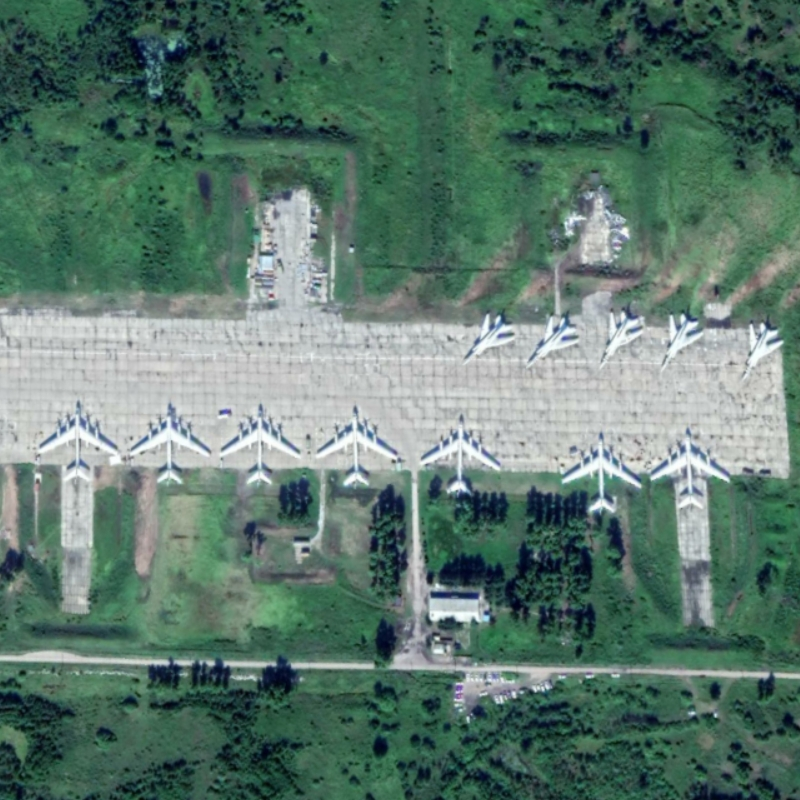A12: (460, 311, 518, 367), (524, 315, 581, 370), (597, 309, 646, 370), (657, 311, 706, 372), (739, 320, 786, 381)
A17: (313, 410, 399, 491), (218, 407, 303, 488), (648, 431, 733, 511), (129, 407, 212, 488), (37, 405, 120, 486), (559, 436, 643, 516), (419, 419, 503, 497)
